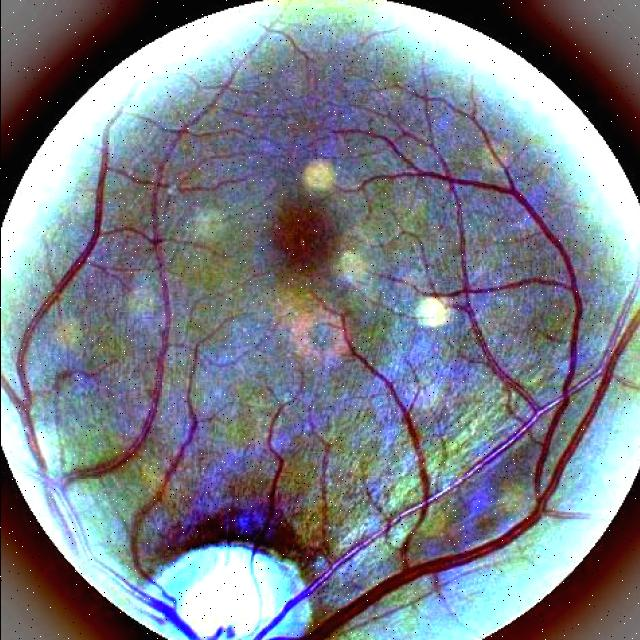Macula: (252, 183, 354, 287)
Nerves: (251, 309, 640, 640), (0, 112, 204, 640), (250, 518, 399, 640), (259, 448, 282, 534), (266, 409, 280, 442)
Optic Disk: (126, 545, 308, 640)
